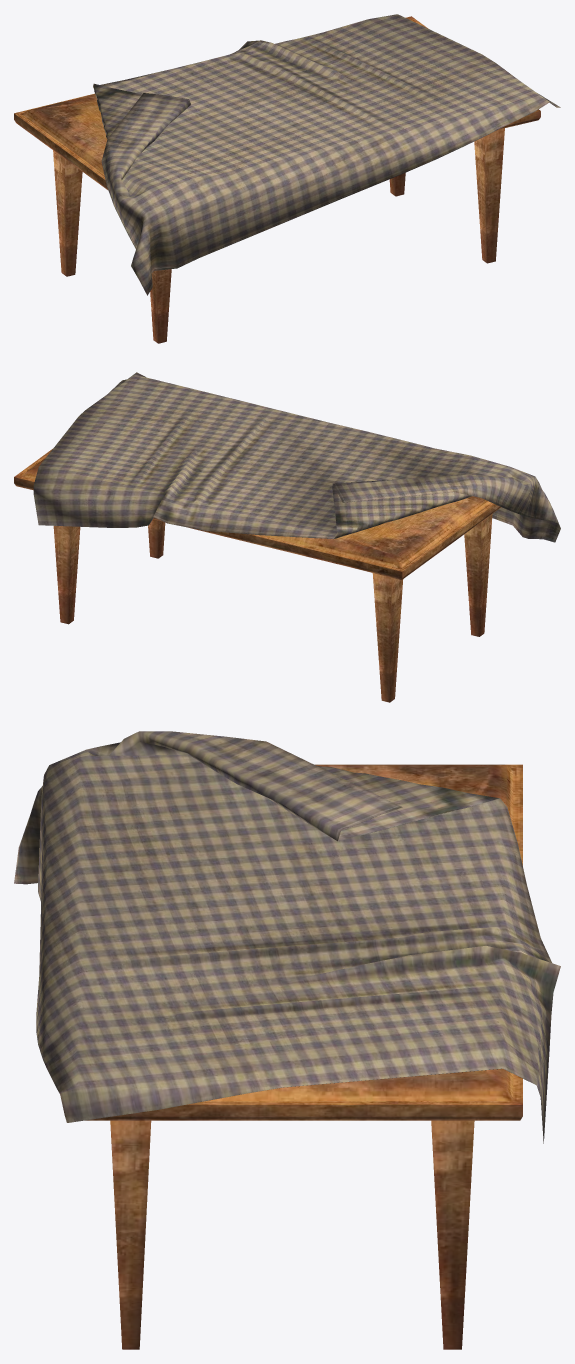
Rendered from dining_table.glb.
3 renders of one model, top to bottom at view 1: azimuth 30°, elevation 25°; view 2: azimuth 150°, elevation 25°; view 3: azimuth 270°, elevation 25°, orthographic. The views are drawn at different scales.
Parts seen in each view (by area): view 1: dining_table_cloth, dining_table; view 2: dining_table_cloth, dining_table; view 3: dining_table_cloth, dining_table.
Part boxes in pixels (left/top/right/bottom): dining_table_cloth: left=93, top=14, right=560, bottom=295; dining_table: left=14, top=16, right=540, bottom=343; dining_table_cloth: left=33, top=372, right=560, bottom=542; dining_table: left=14, top=449, right=501, bottom=702; dining_table_cloth: left=14, top=731, right=560, bottom=1143; dining_table: left=85, top=764, right=522, bottom=1349.
Bounding box in the file's own units: 2.26 × 0.877 × 1.39.
Materials: 1 (1 with a texture image).
